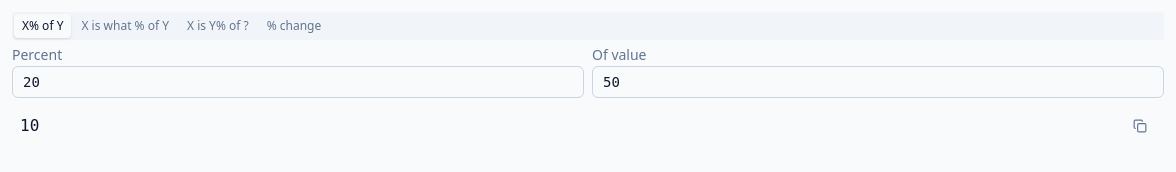
Test case: PercentageCalculatorWidget › computes what percent one number is of another
This screenshot has width=1176, height=172.
Click the button "X is what % of Y": (125, 26) [73,14,177,38]
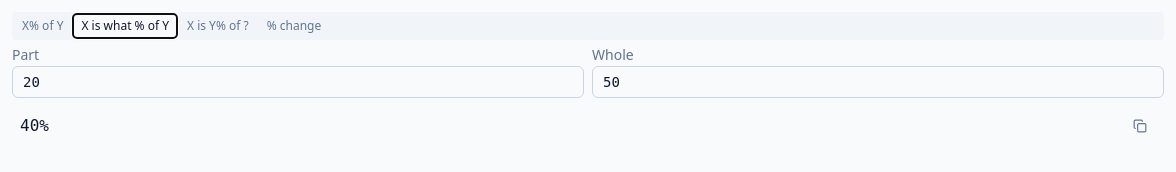
Check: the text "40%" is shown, box [20,114,49,138]
